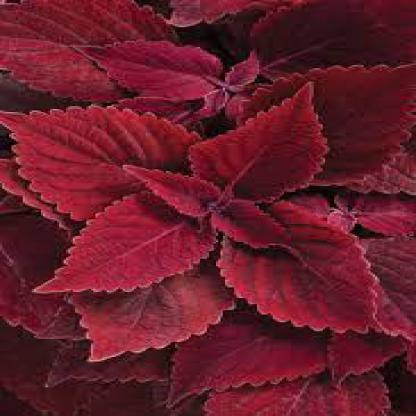Bunga Coleus: (17, 23, 394, 407)
